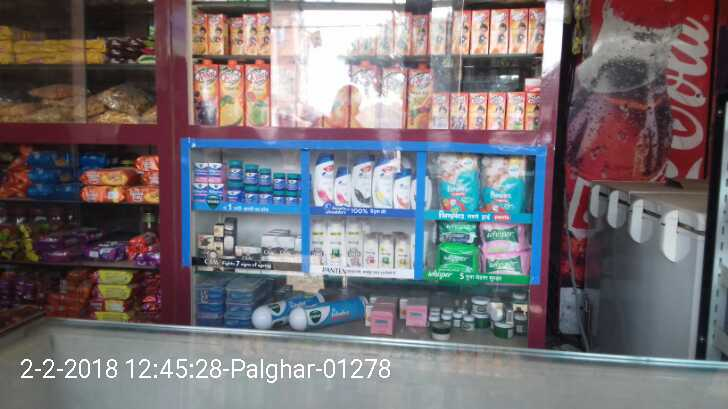vicks: (192, 159, 305, 207)
